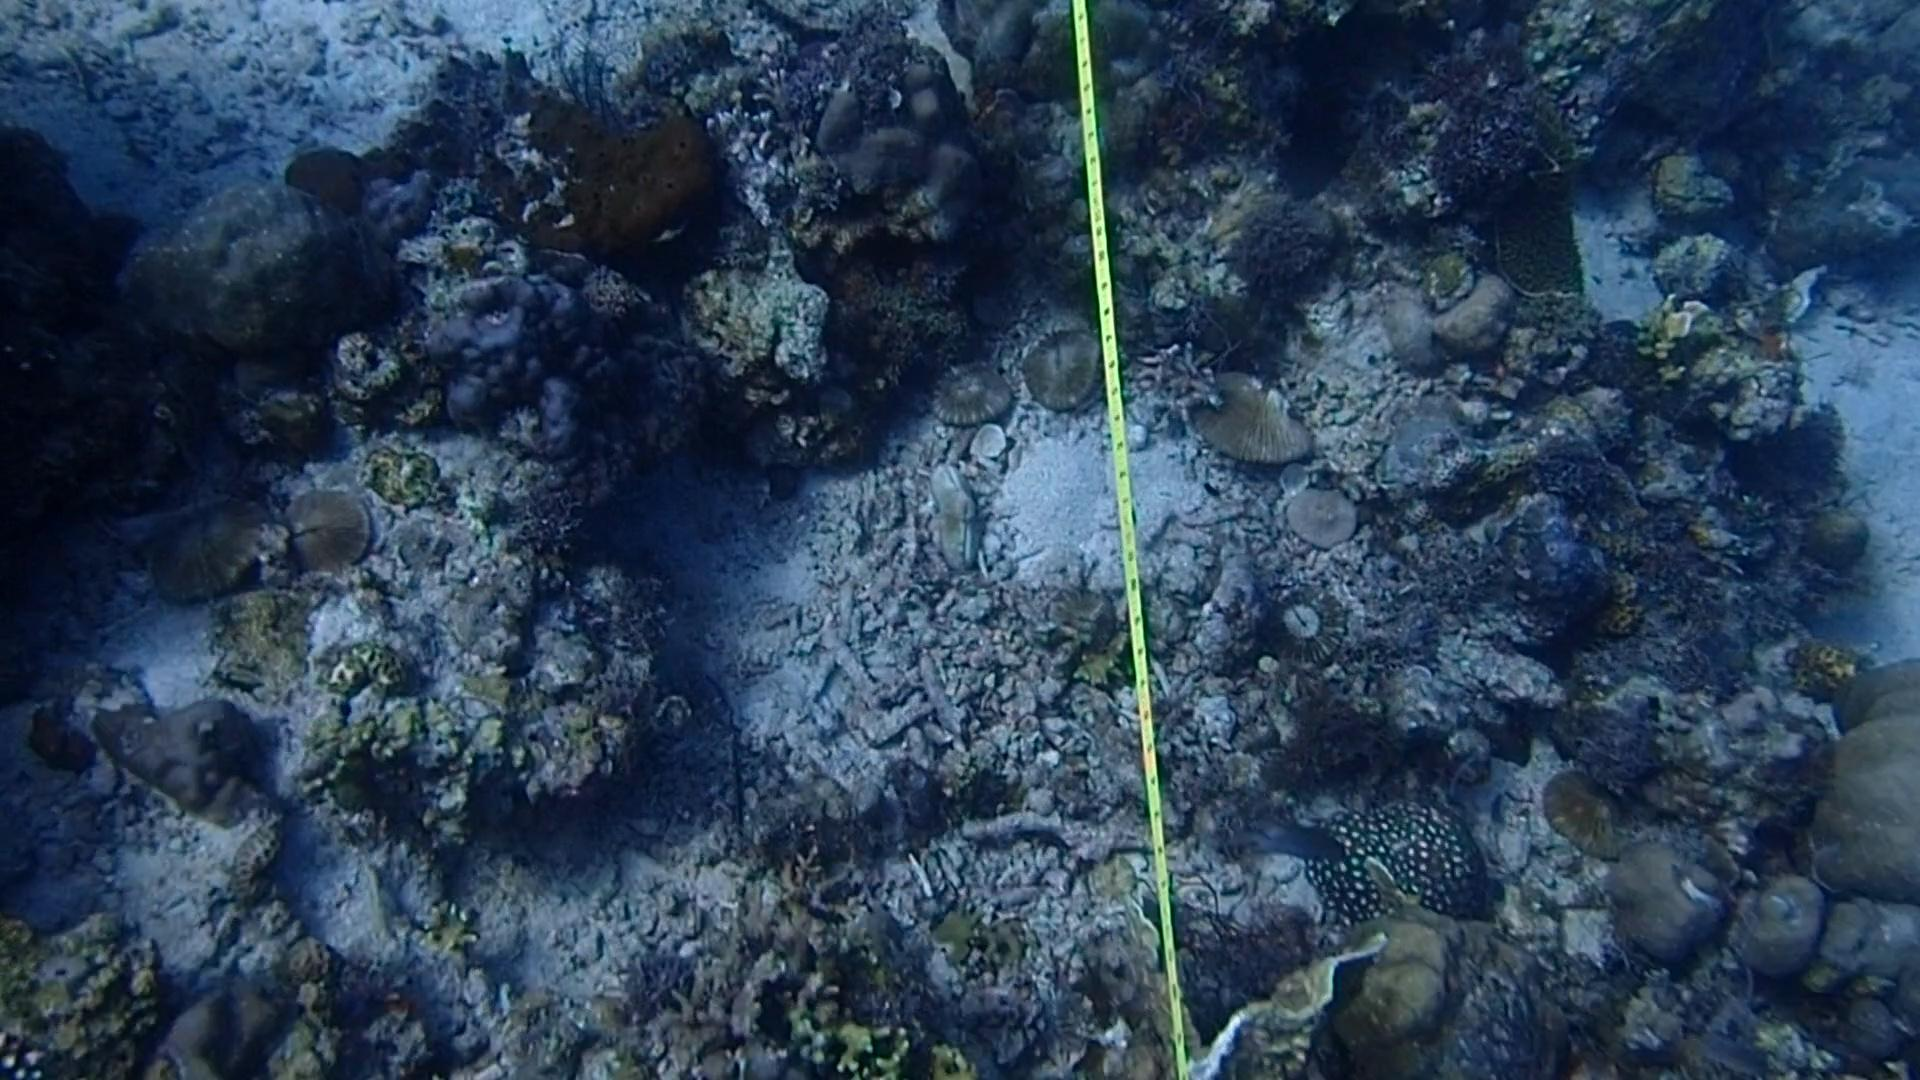Light Fish: (1238, 806, 1348, 882)
